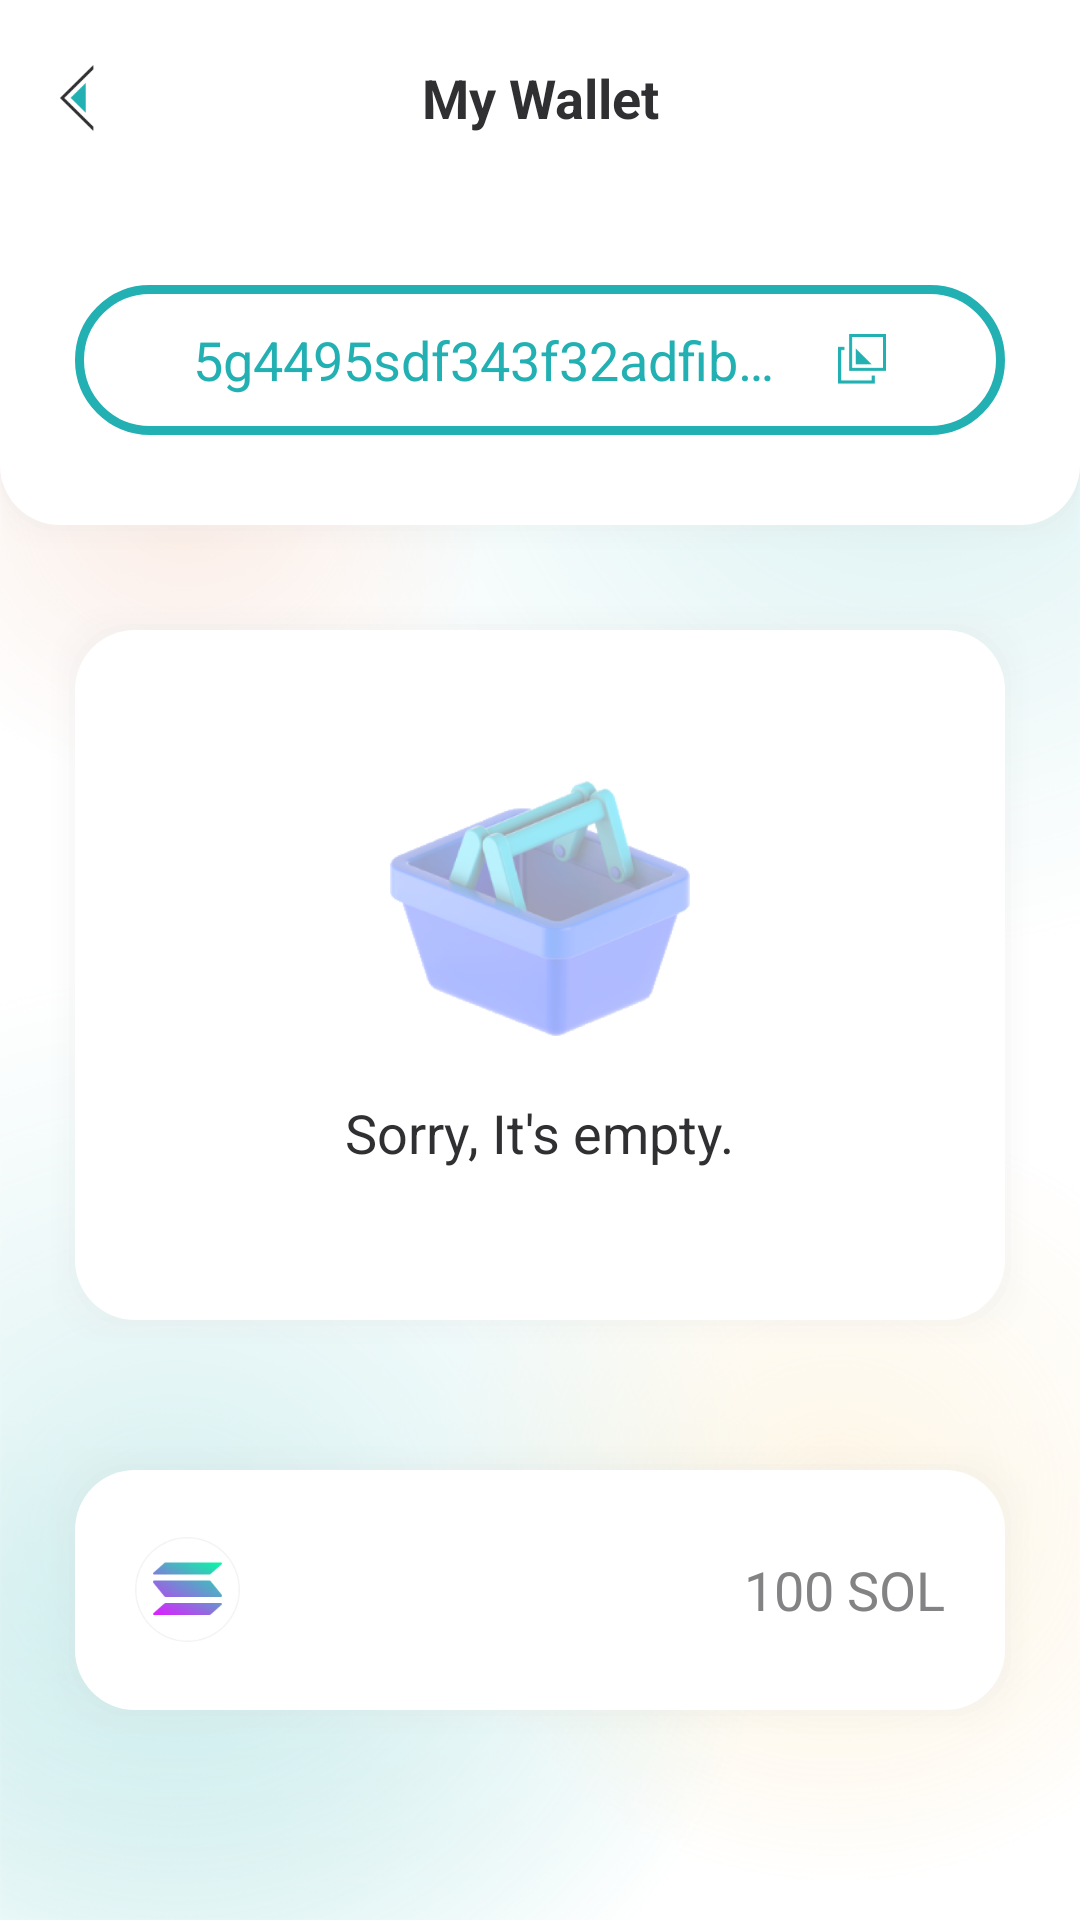

Named icons in this screenshot (1080x1920) and their bounding boxes, Rect(x1, y1, x2, y2):
angle back: Rect(60, 65, 94, 131)
